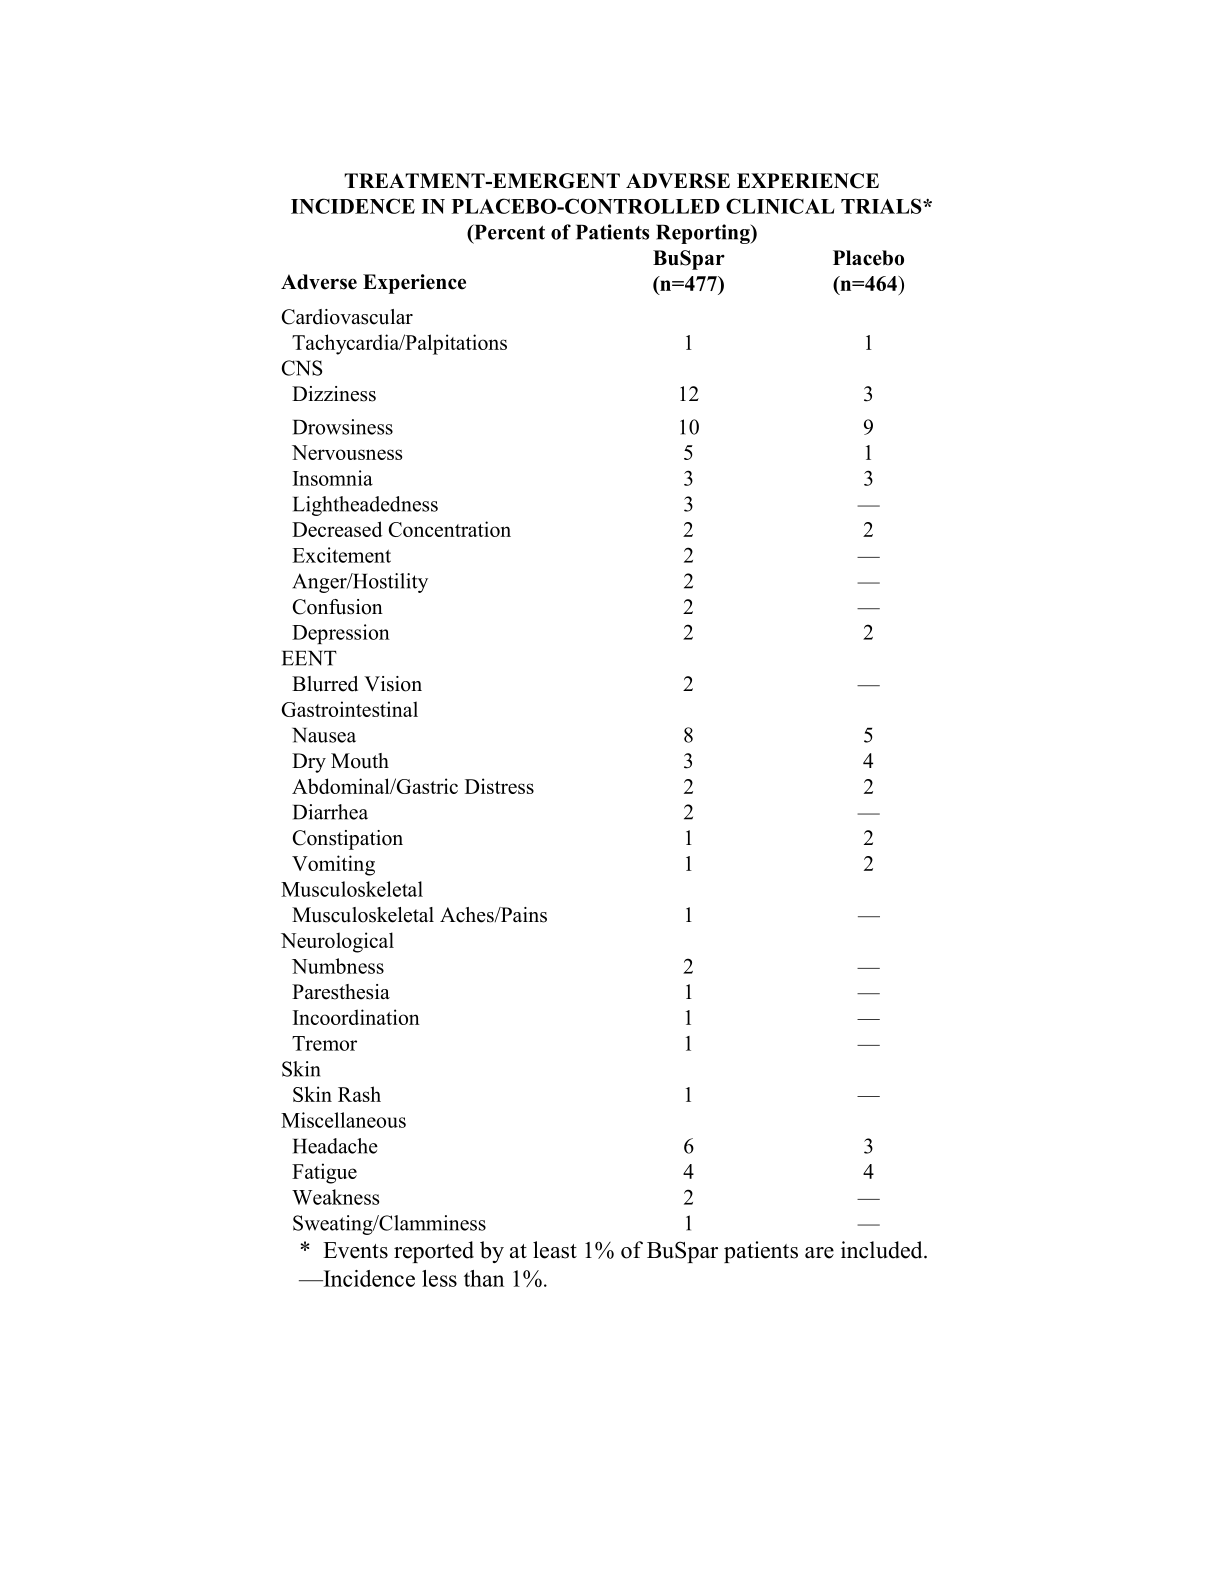nolines: (279, 247, 908, 1234)
